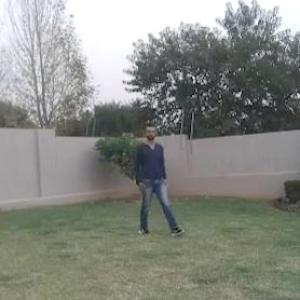follow: (136, 120, 168, 231)
